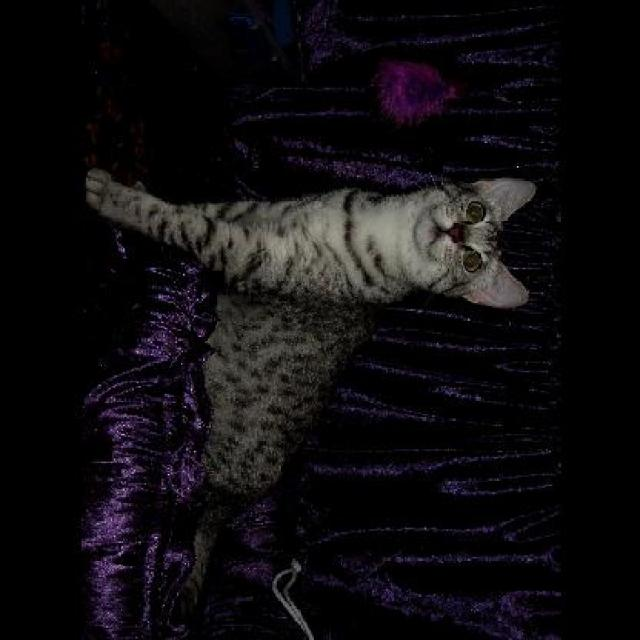unauthorized: (83, 165, 537, 617)
